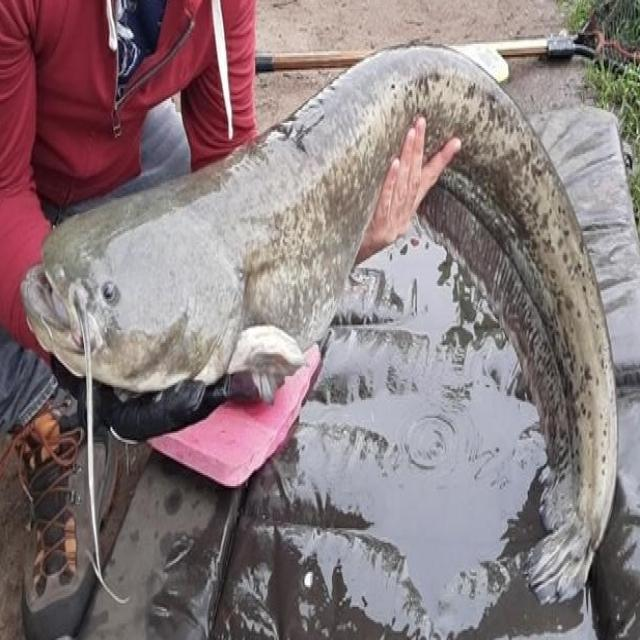Catfish: (23, 34, 620, 634)
